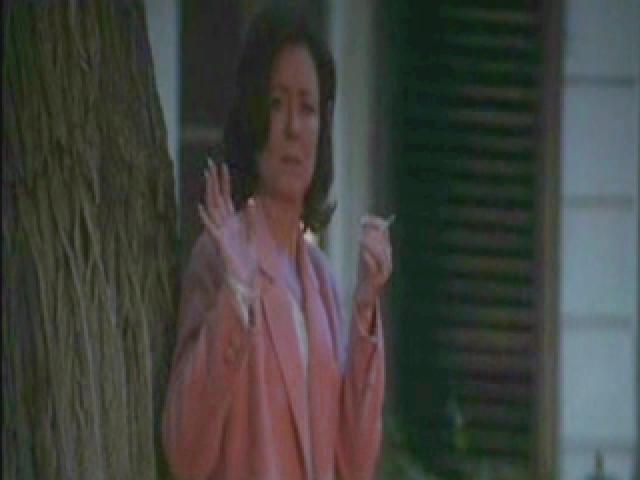T: (160, 12, 394, 480)
